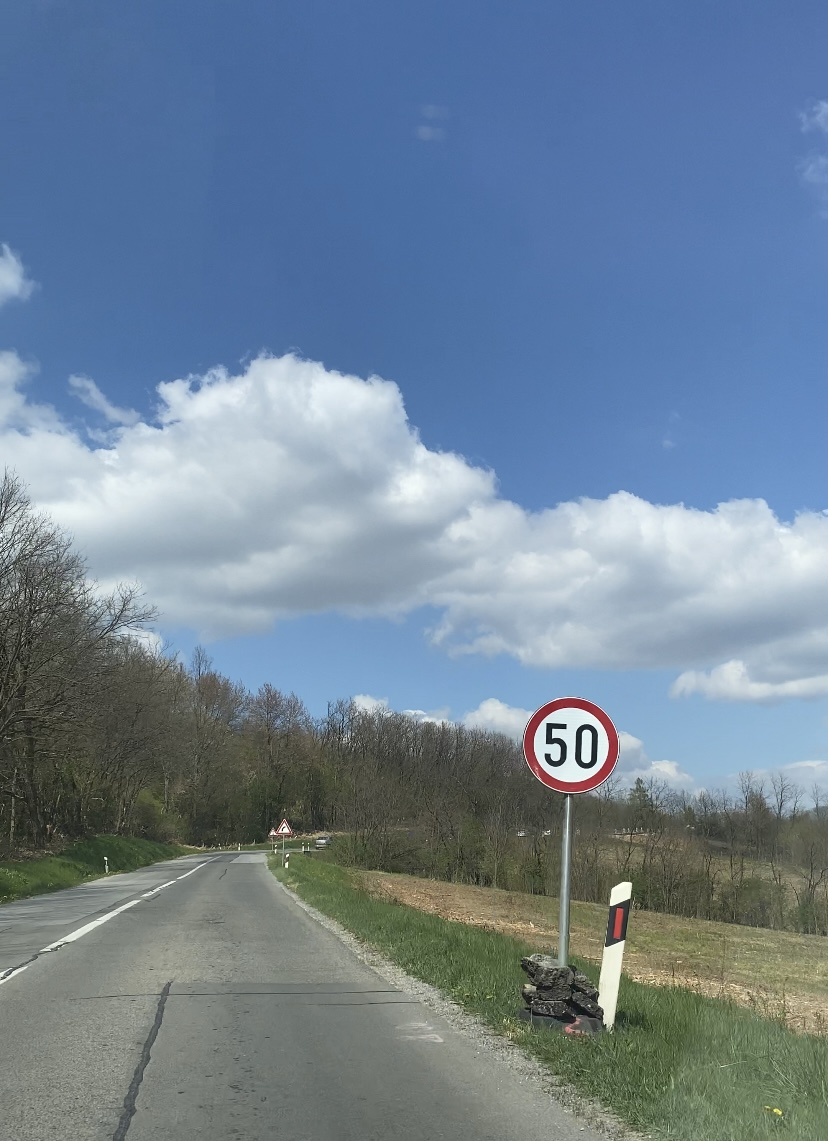Ograničenje brzine 50: (523, 696, 620, 794)
